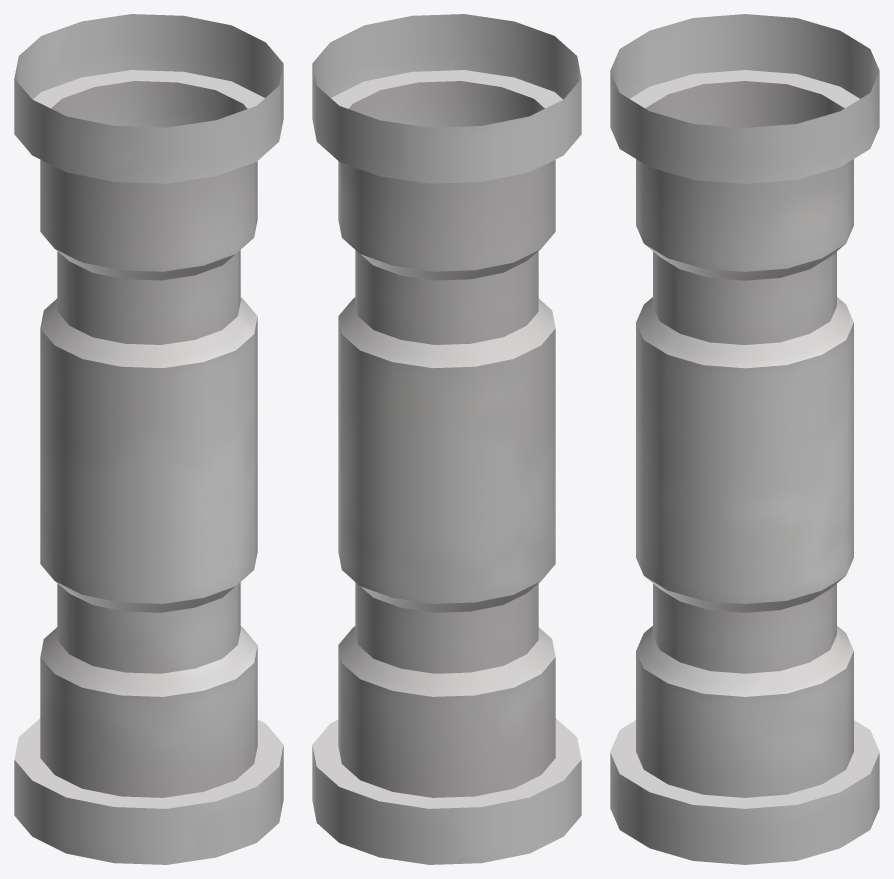
File: Pipe4.fbx
3 views of the same model, side by side, from view 1: azimuth 30°, elevation 25°; view 2: azimuth 150°, elevation 25°; view 3: azimuth 270°, elevation 25° (orthographic).
Parts seen in each view (by area): view 1: Mat_Pipe_01 2; view 2: Mat_Pipe_01 2; view 3: Mat_Pipe_01 2.
Part boxes in pixels (box(x1,y1,x2,y2)): Mat_Pipe_01 2: box(14, 14, 283, 864); Mat_Pipe_01 2: box(312, 14, 581, 864); Mat_Pipe_01 2: box(610, 14, 879, 864).
Bounding box in the file's own units: 0.3447 × 1.04 × 0.3447.
1 material, 1 textured.
